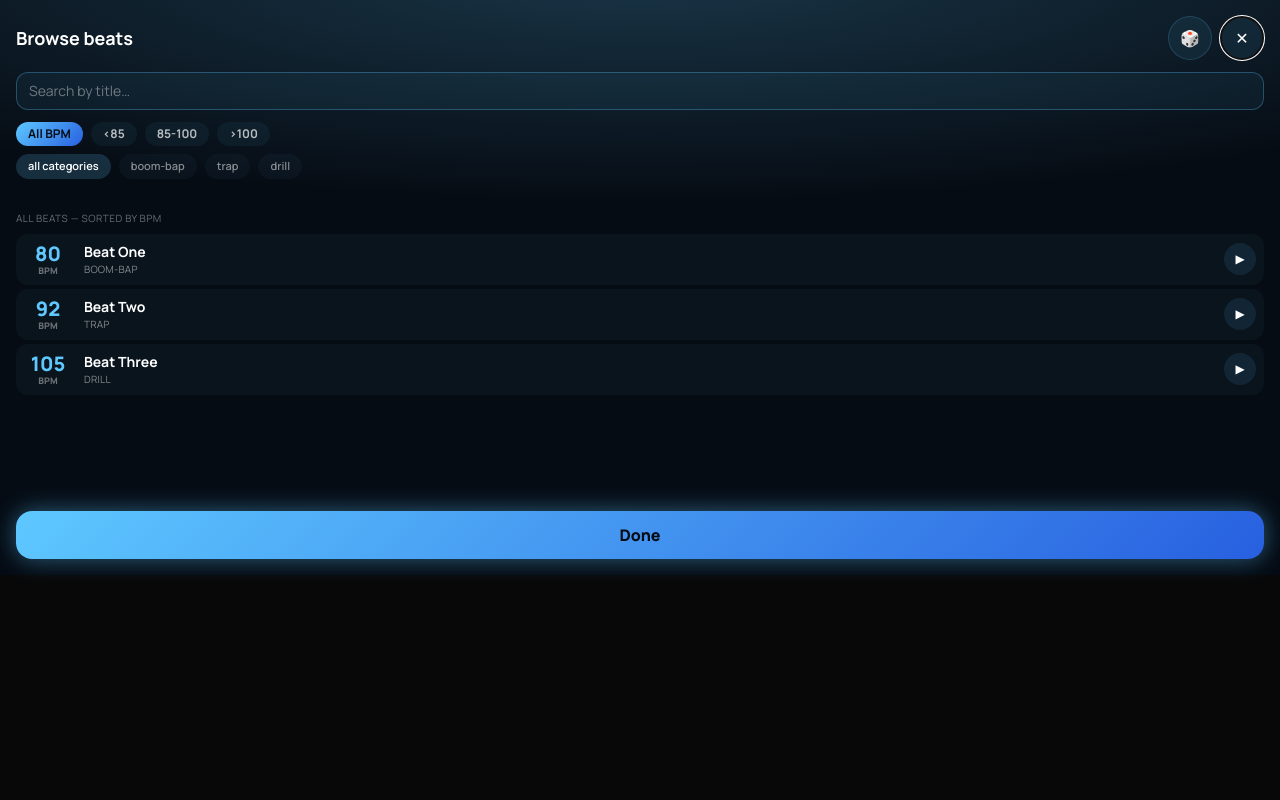
Test: BrowseBeats — filters & rendering › BPM bucket chip filters out non-matching beats
Click the button "<85": [114, 134] box 91,122 -> 137,146
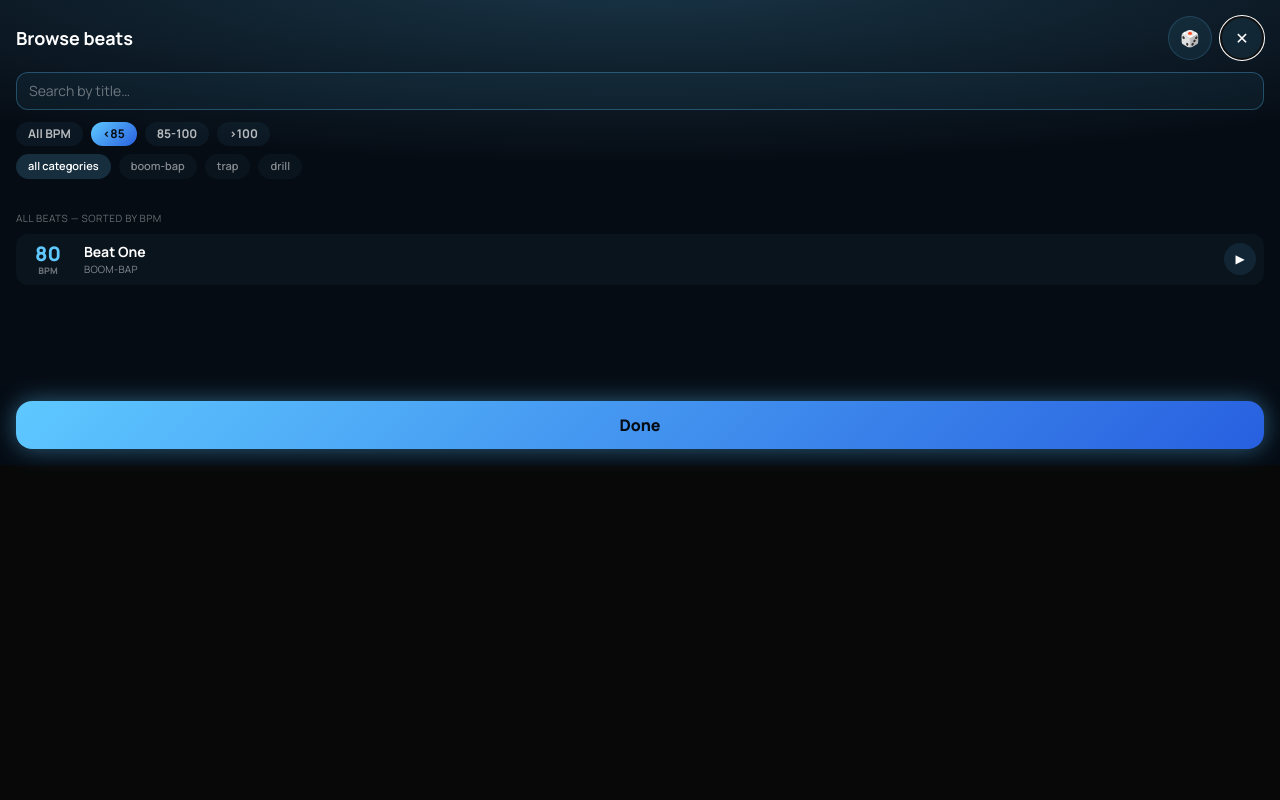
Expected: the text "Beat One" is shown, 84,242 -> 146,260
Expected: the button "Beat Two" is gone
Expected: the button "Beat Three" is gone
